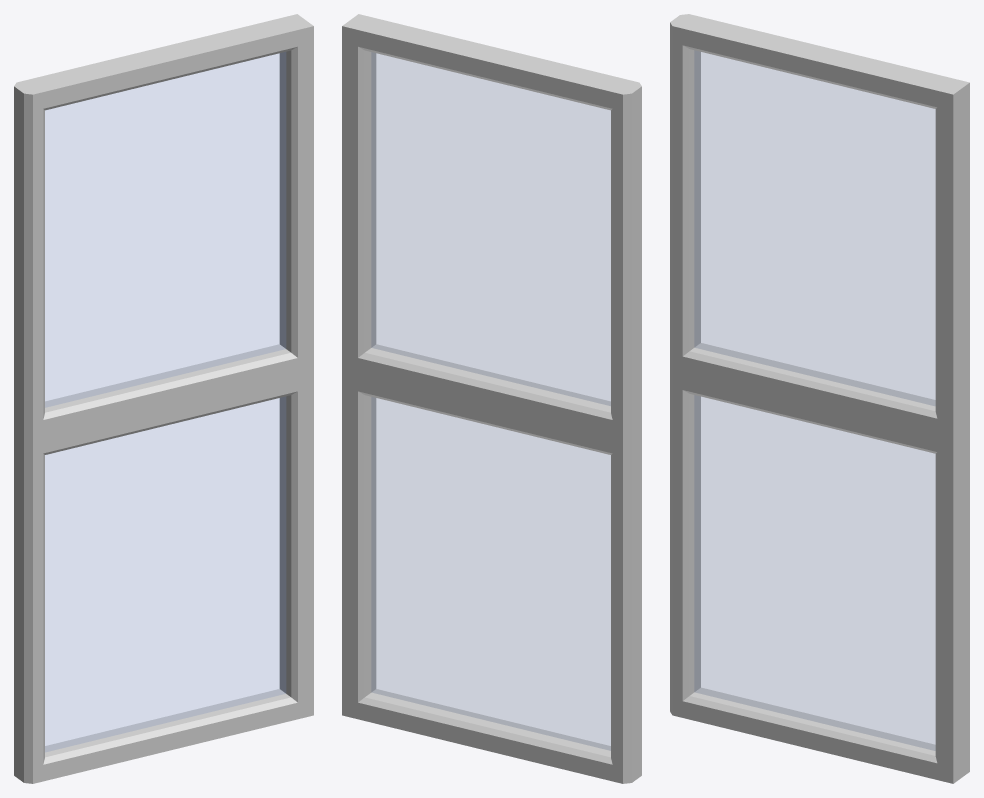
The model's file is store_small_door_R.glb.
3 views of the same model, side by side, from view 1: azimuth 30°, elevation 25°; view 2: azimuth 150°, elevation 25°; view 3: azimuth 330°, elevation 25° (orthographic).
Visible parts, largest first — view 1: store_small_door_R_col; view 2: store_small_door_R_col; view 3: store_small_door_R_col.
Part boxes in pixels (<box>): store_small_door_R_col: <box>14,14,313,783</box>; store_small_door_R_col: <box>342,14,641,783</box>; store_small_door_R_col: <box>670,14,969,783</box>.
Size of the model in its own units: 1 by 2.3 by 0.1.
2 materials, 1 textured.
